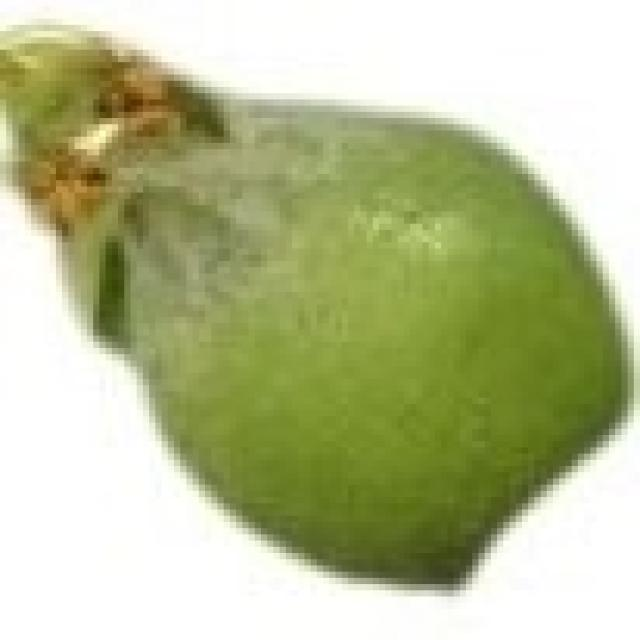20-_ripeness: (0, 22, 635, 589)
